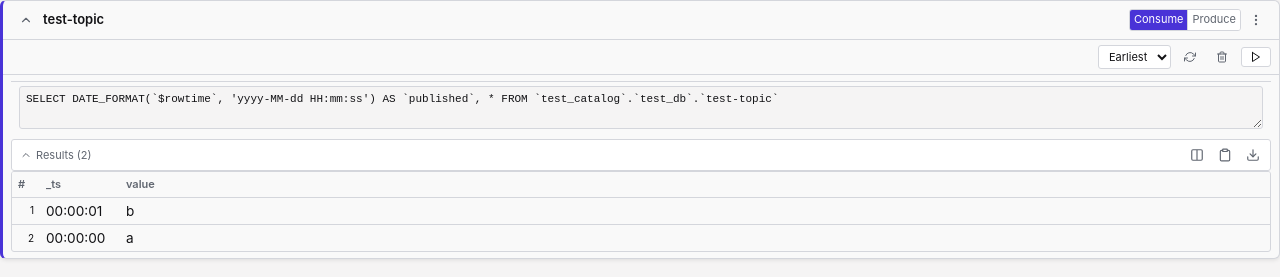
[@stream-card-layout] StreamCard Layout › Results bar › copy button opens copy dropdown with Markdown, JSON, CSV
This screenshot has width=1280, height=277.
Click the button named "Copy data". click: x=1225, y=155
box: [1212,142,1238,168]
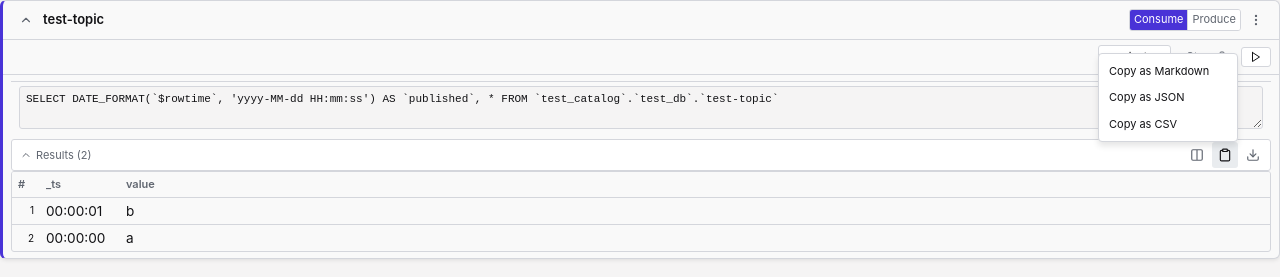
Check: the button "Copy as Markdown" is shown, box [1099,58,1237,84]
Check: the button "Copy as JSON" is shown, box [1099,84,1237,110]
Check: the button "Copy as CSV" is shown, box [1099,110,1237,137]
